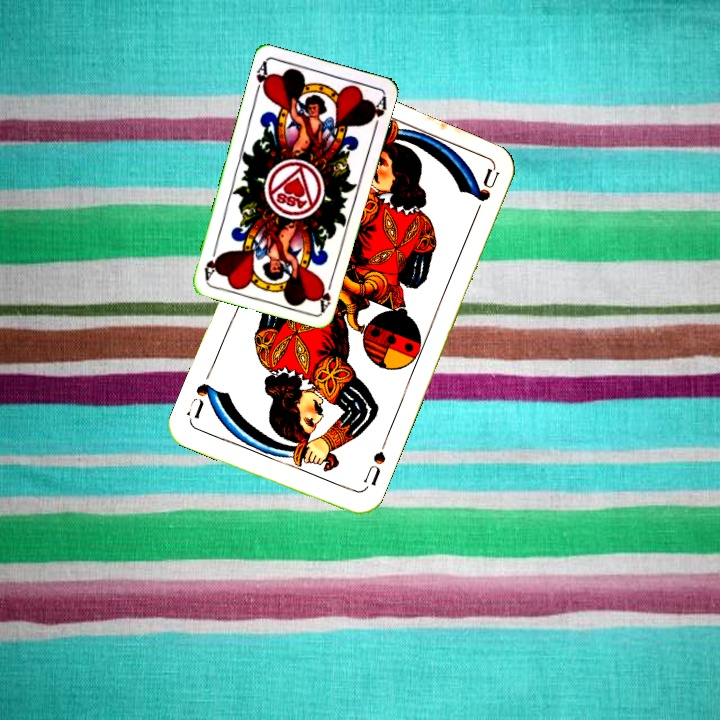HA: (251, 58, 273, 98), (315, 273, 336, 313)
SU: (358, 437, 389, 493)
